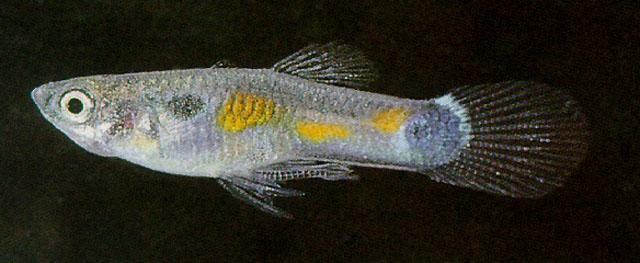Mulut: (16, 62, 68, 132)
Sirip Ekor: (402, 72, 606, 210)
Sirip Punggung: (263, 31, 385, 104)
